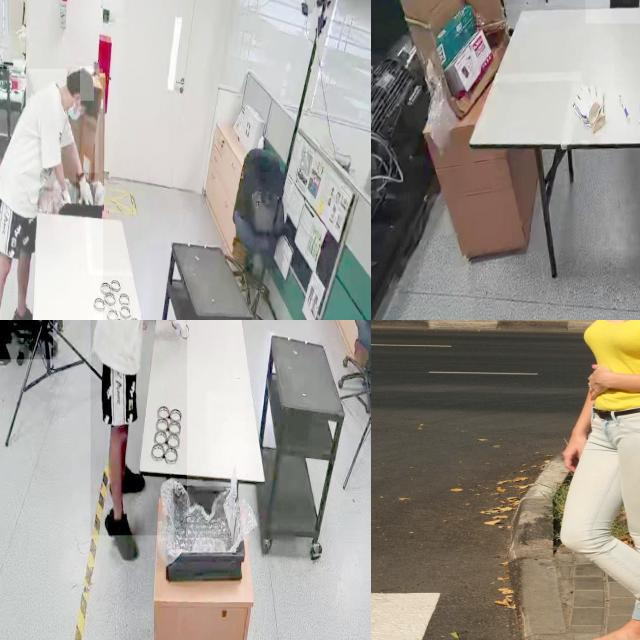Barefoots: (574, 626, 640, 640)
face_mask: (68, 95, 85, 126)
hand_glove: (76, 173, 98, 212), (166, 320, 186, 339)
head_nohelmet: (80, 66, 94, 101)
person: (0, 69, 103, 320), (90, 320, 187, 536)
shoes: (104, 503, 140, 561), (107, 458, 149, 497), (7, 302, 45, 320)
